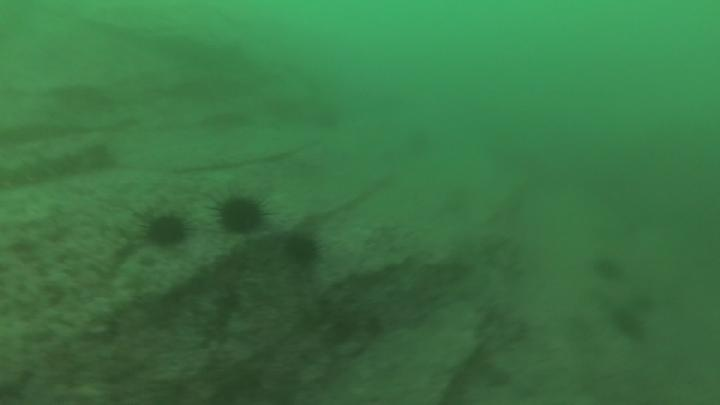echinus: (212, 192, 269, 237), (141, 210, 190, 250), (610, 305, 649, 344), (282, 231, 322, 268), (590, 253, 626, 284)
holothurian: (1, 137, 116, 192)
